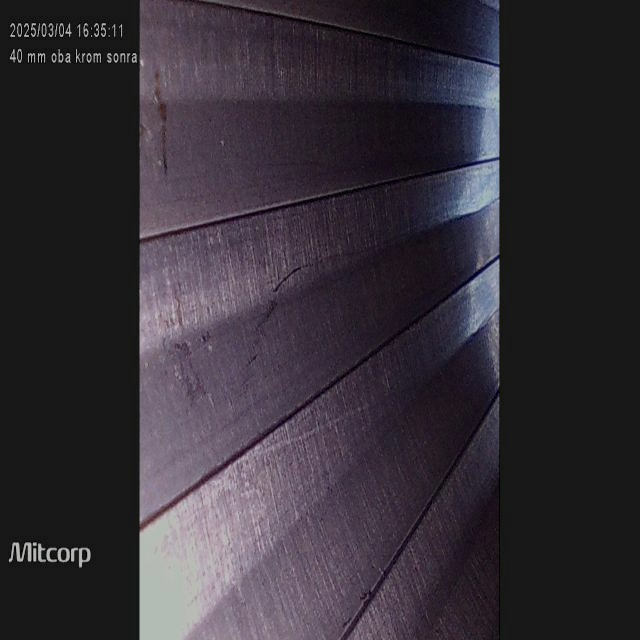hata_3.2: (232, 261, 312, 393), (163, 274, 226, 411), (152, 61, 175, 181)
